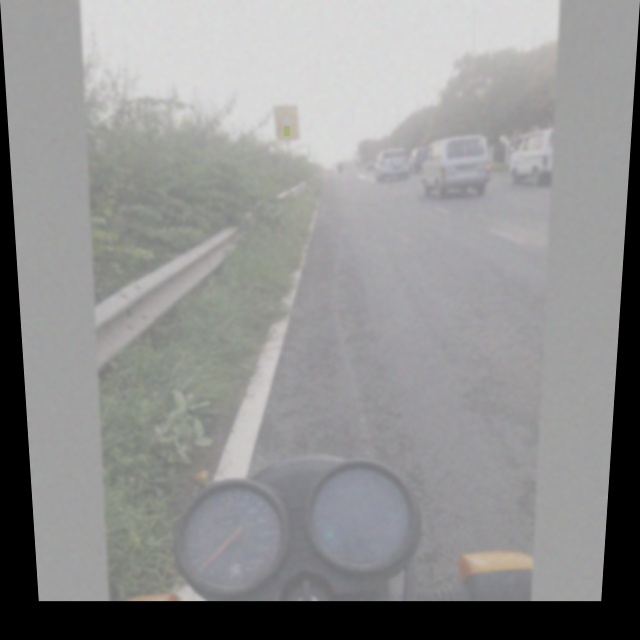Narrow_Bridge: (274, 106, 298, 136)
